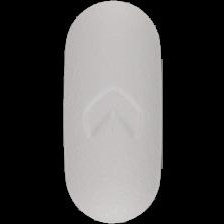68084-070: (0, 0, 224, 224)
